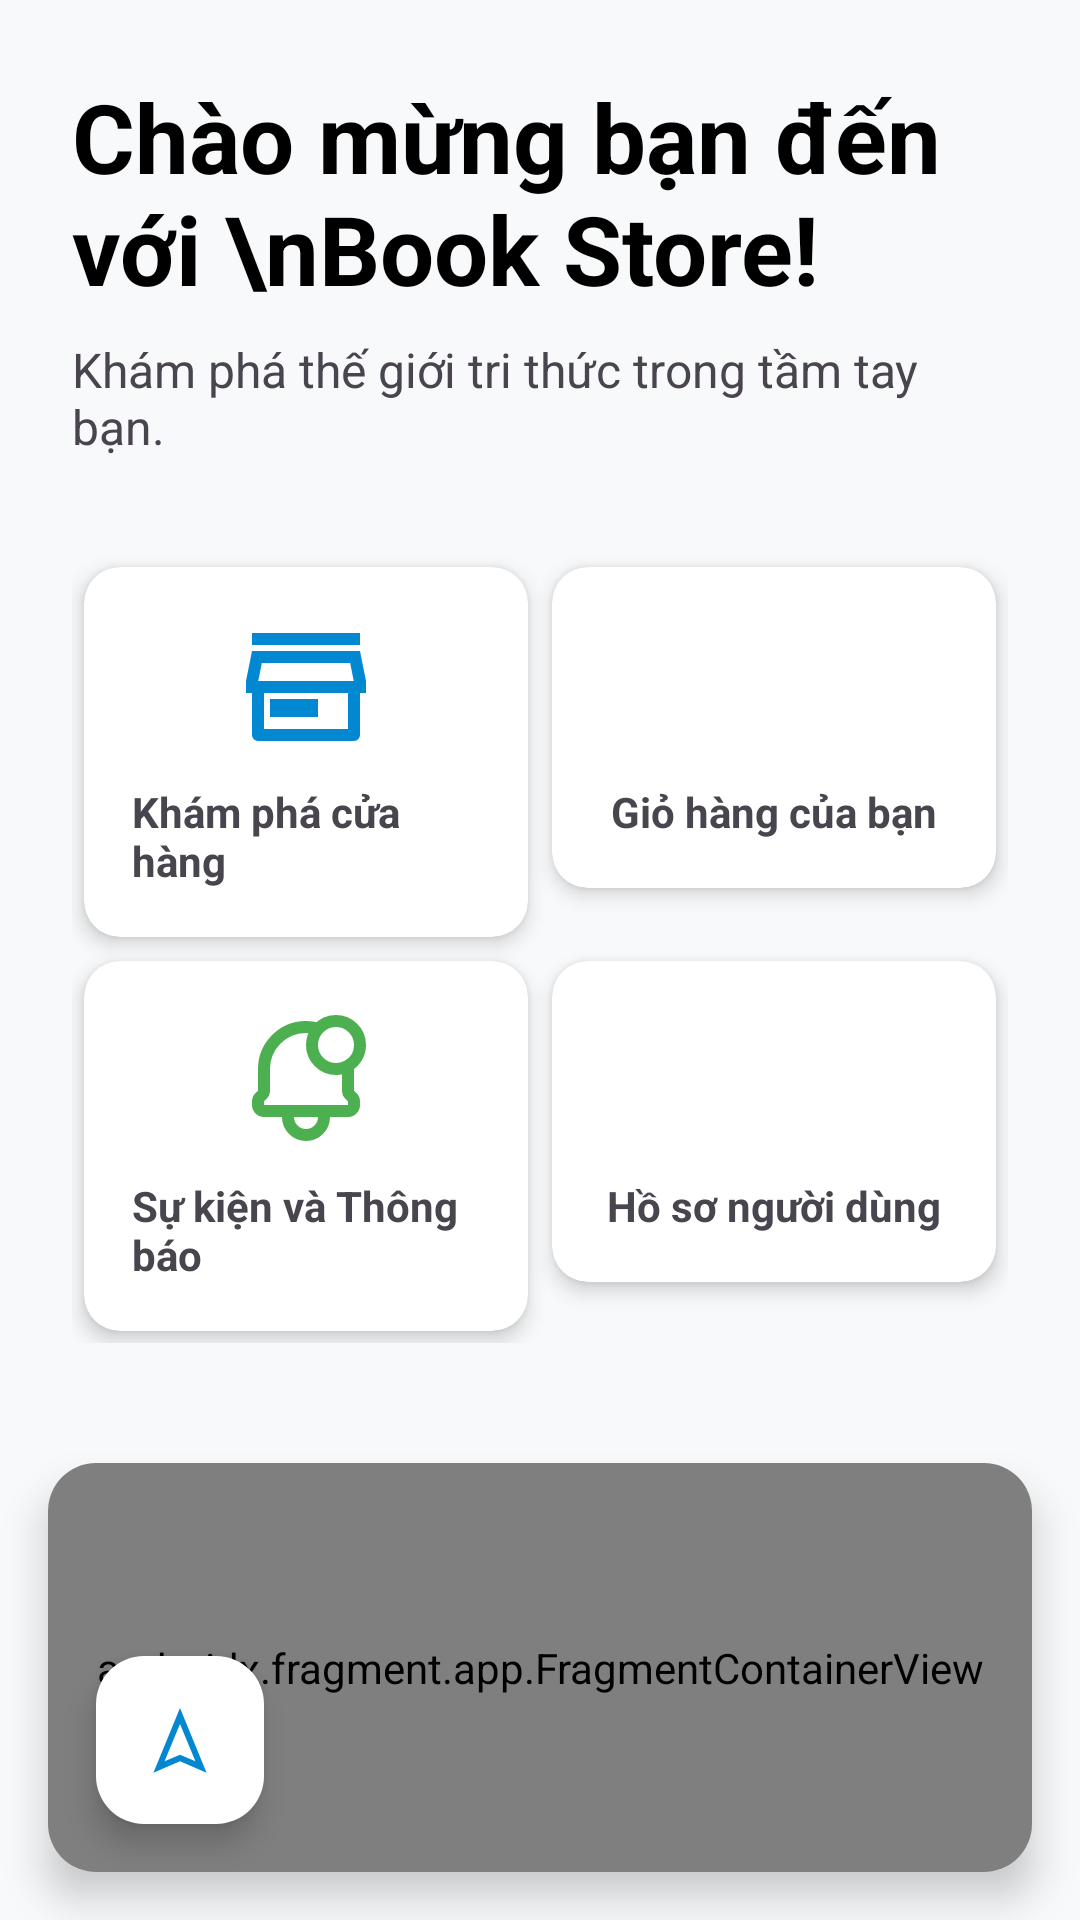

Where icons sit on this 1080*1920 app screen, as (x1, y1, x2, y2):
Get Directions: (96, 1656, 264, 1824)
notifications: (252, 1015, 366, 1141)
